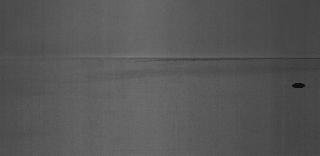punching hole: (290, 82, 306, 91)
welding line: (2, 54, 316, 64)
